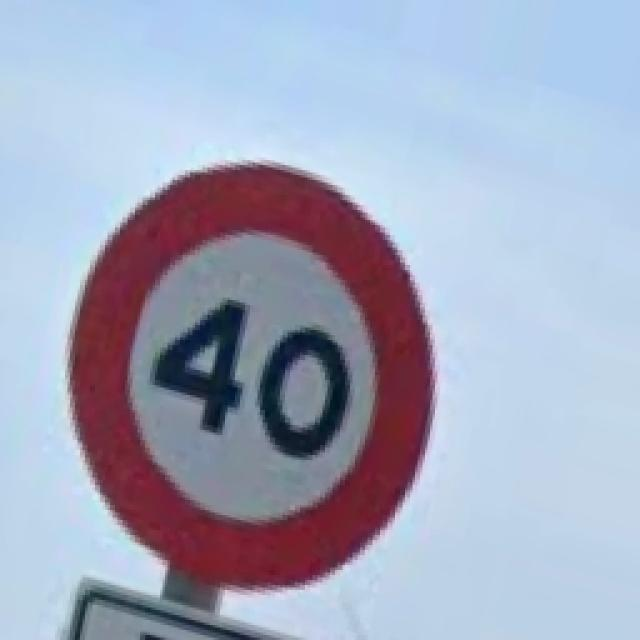Speed Limit -40-: (72, 168, 430, 585)
